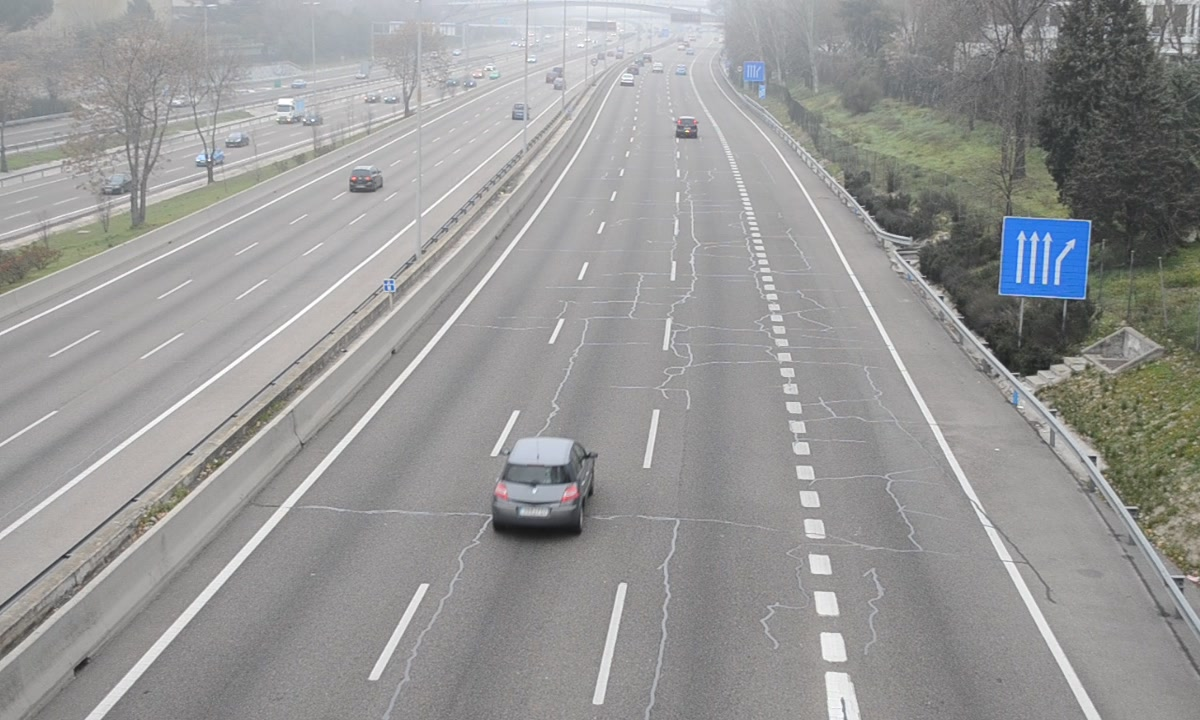car: (494, 439, 593, 531), (675, 117, 698, 137)
